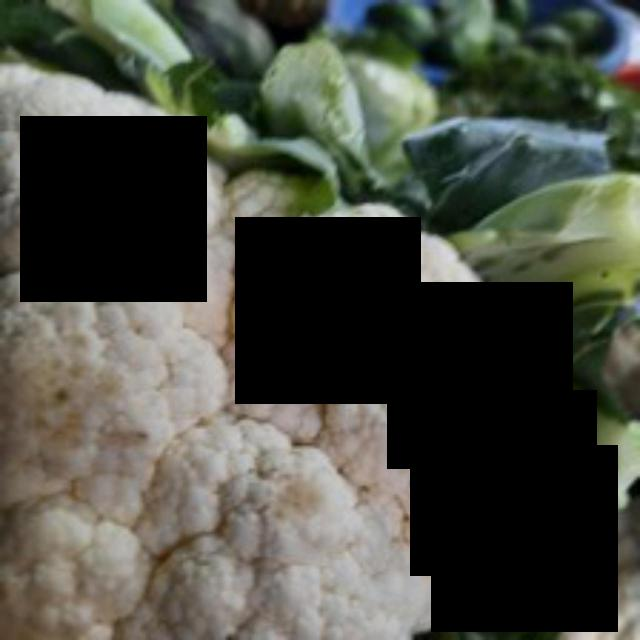cauliflower: (0, 43, 546, 637)
